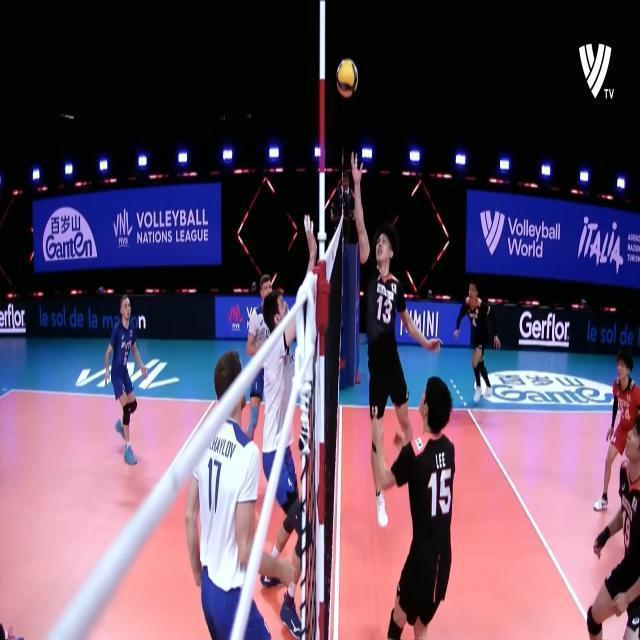volleyball: (336, 59, 358, 96)
